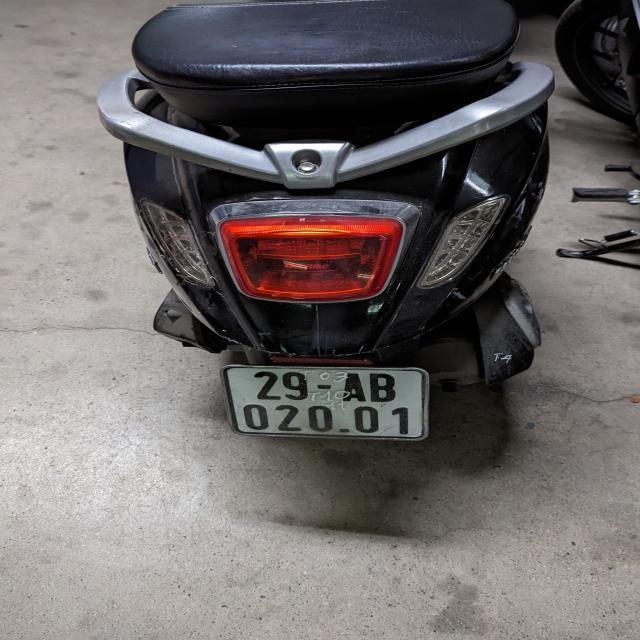license: (220, 363, 430, 440)
